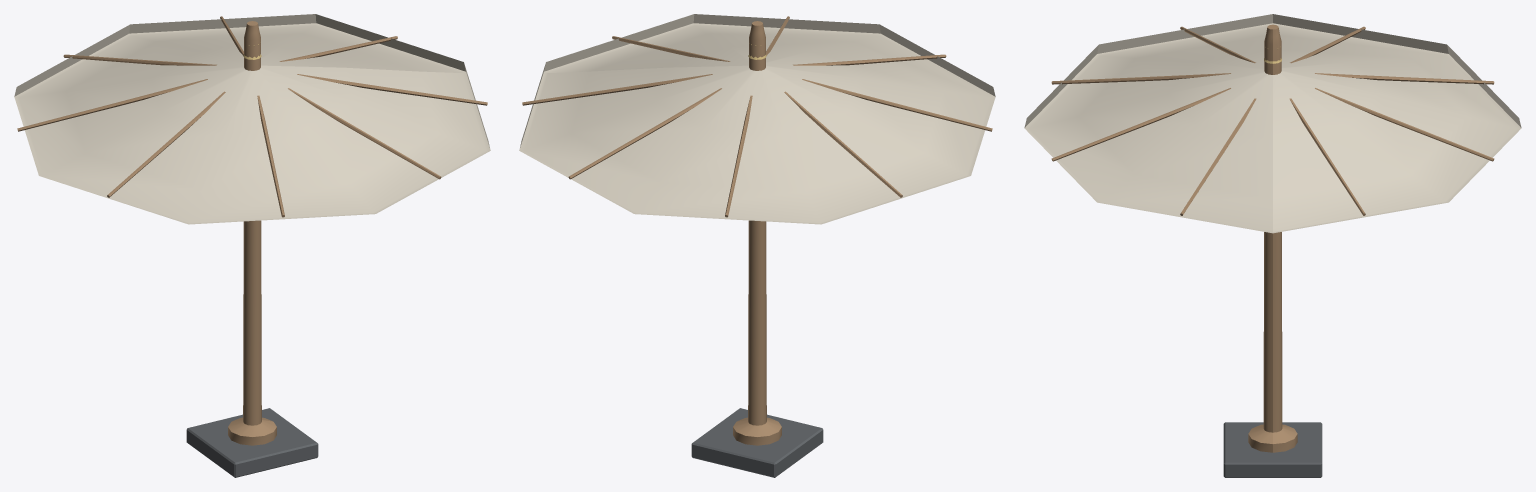
File: bar-pub-and-brewery-taproom-beer-garden-parasol-ba71abb8__18425.glb
3 views of the same model, side by side, from view 1: azimuth 30°, elevation 25°; view 2: azimuth 150°, elevation 25°; view 3: azimuth 270°, elevation 25° (orthographic).
Visible parts, largest first — view 1: beer-garden-parasol; view 2: beer-garden-parasol; view 3: beer-garden-parasol.
Boxes of the visible parts, x1,y1,x2,y2 form: beer-garden-parasol: (14, 14, 490, 477); beer-garden-parasol: (519, 14, 995, 477); beer-garden-parasol: (1024, 14, 1521, 477).
Size of the model in its own units: 2.63 by 2.51 by 2.63.
